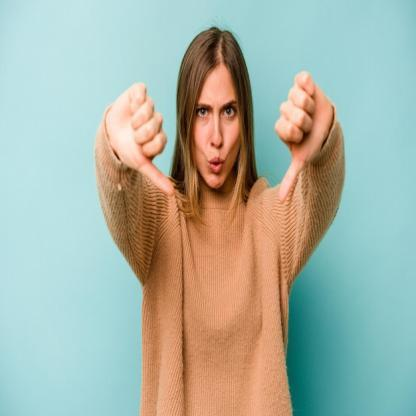thumb_down: (105, 78, 175, 196), (270, 68, 326, 206)
